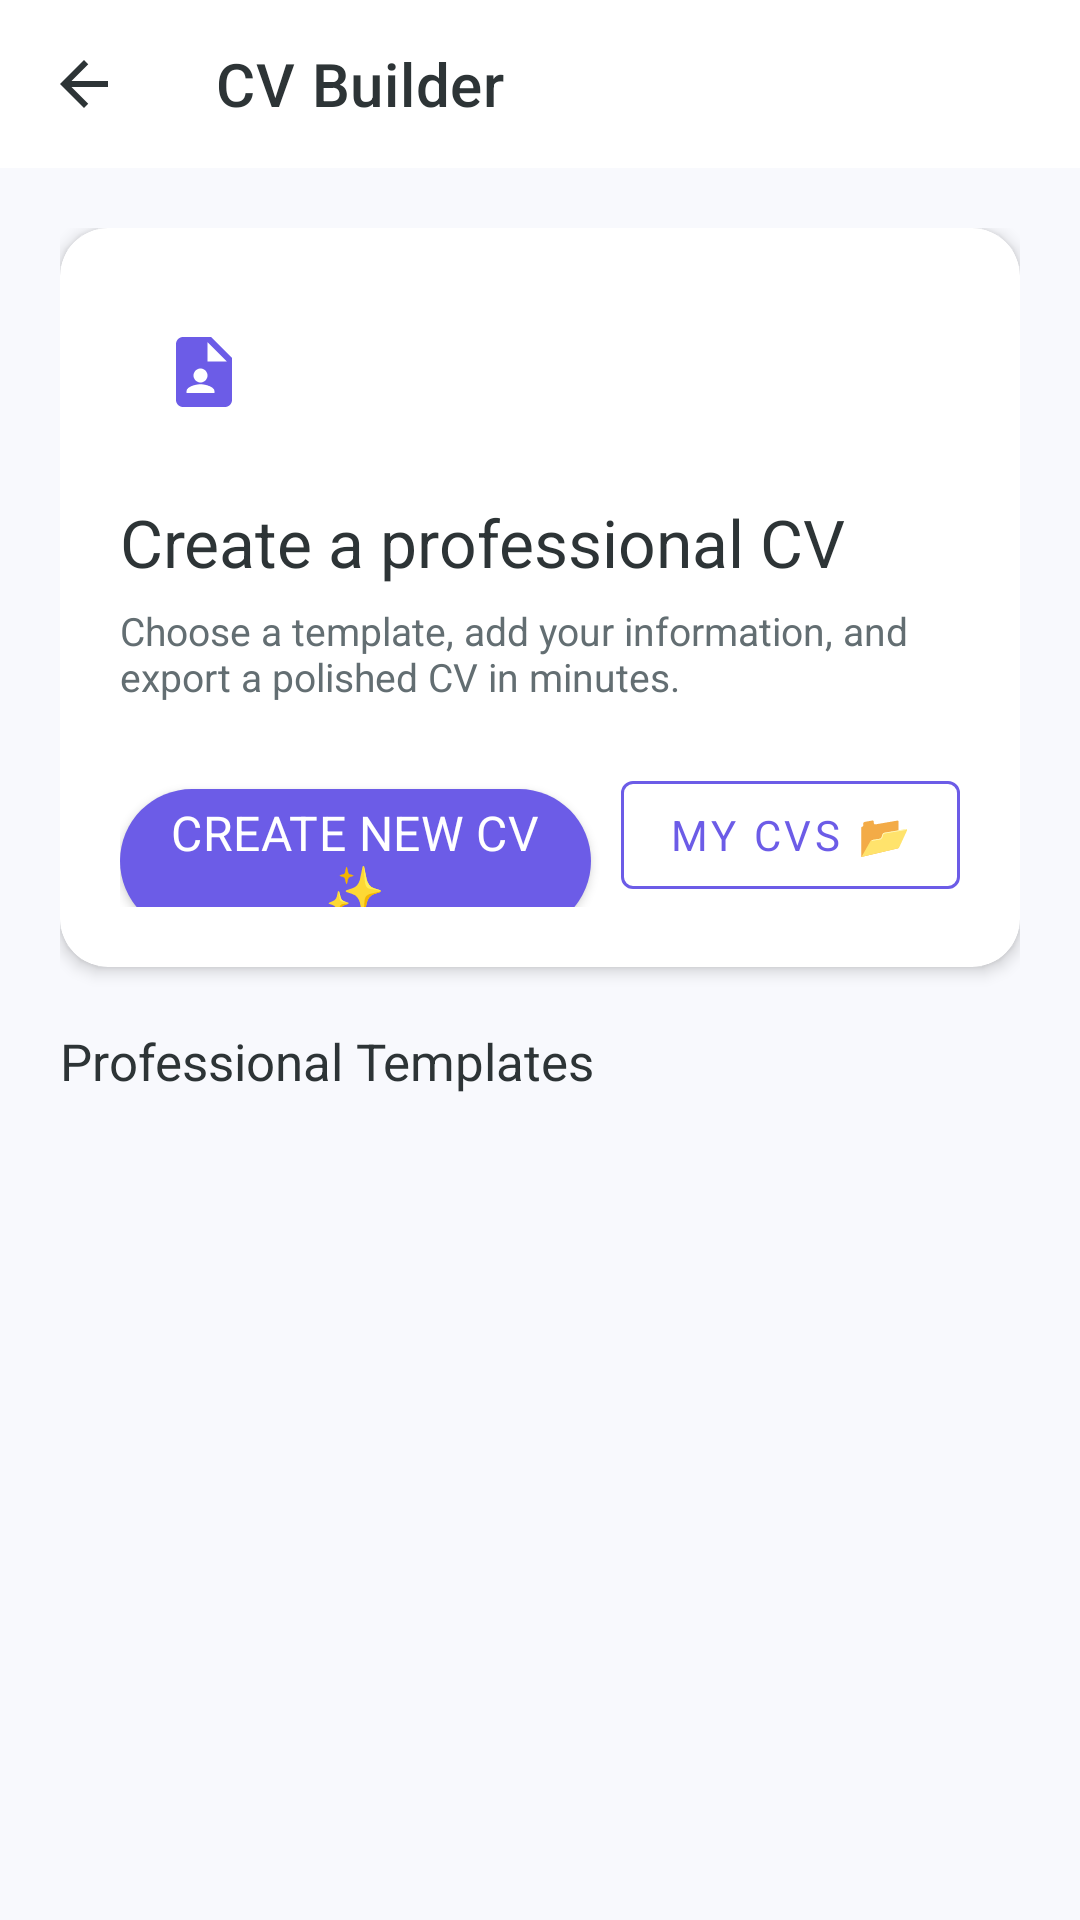

Named icons in this screenshot (1080 x 1920) and their centers, (x,y):
tool cv maker: (204,372)
